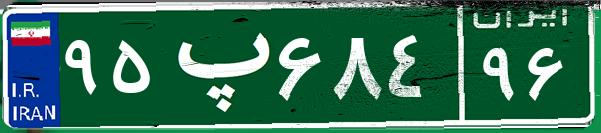4: (385, 28, 445, 110)
5: (110, 28, 158, 105)
6: (273, 28, 330, 110), (525, 38, 570, 115)
8: (330, 28, 385, 110)
9: (57, 26, 110, 107), (475, 38, 525, 113)
پ: (158, 15, 273, 115)
